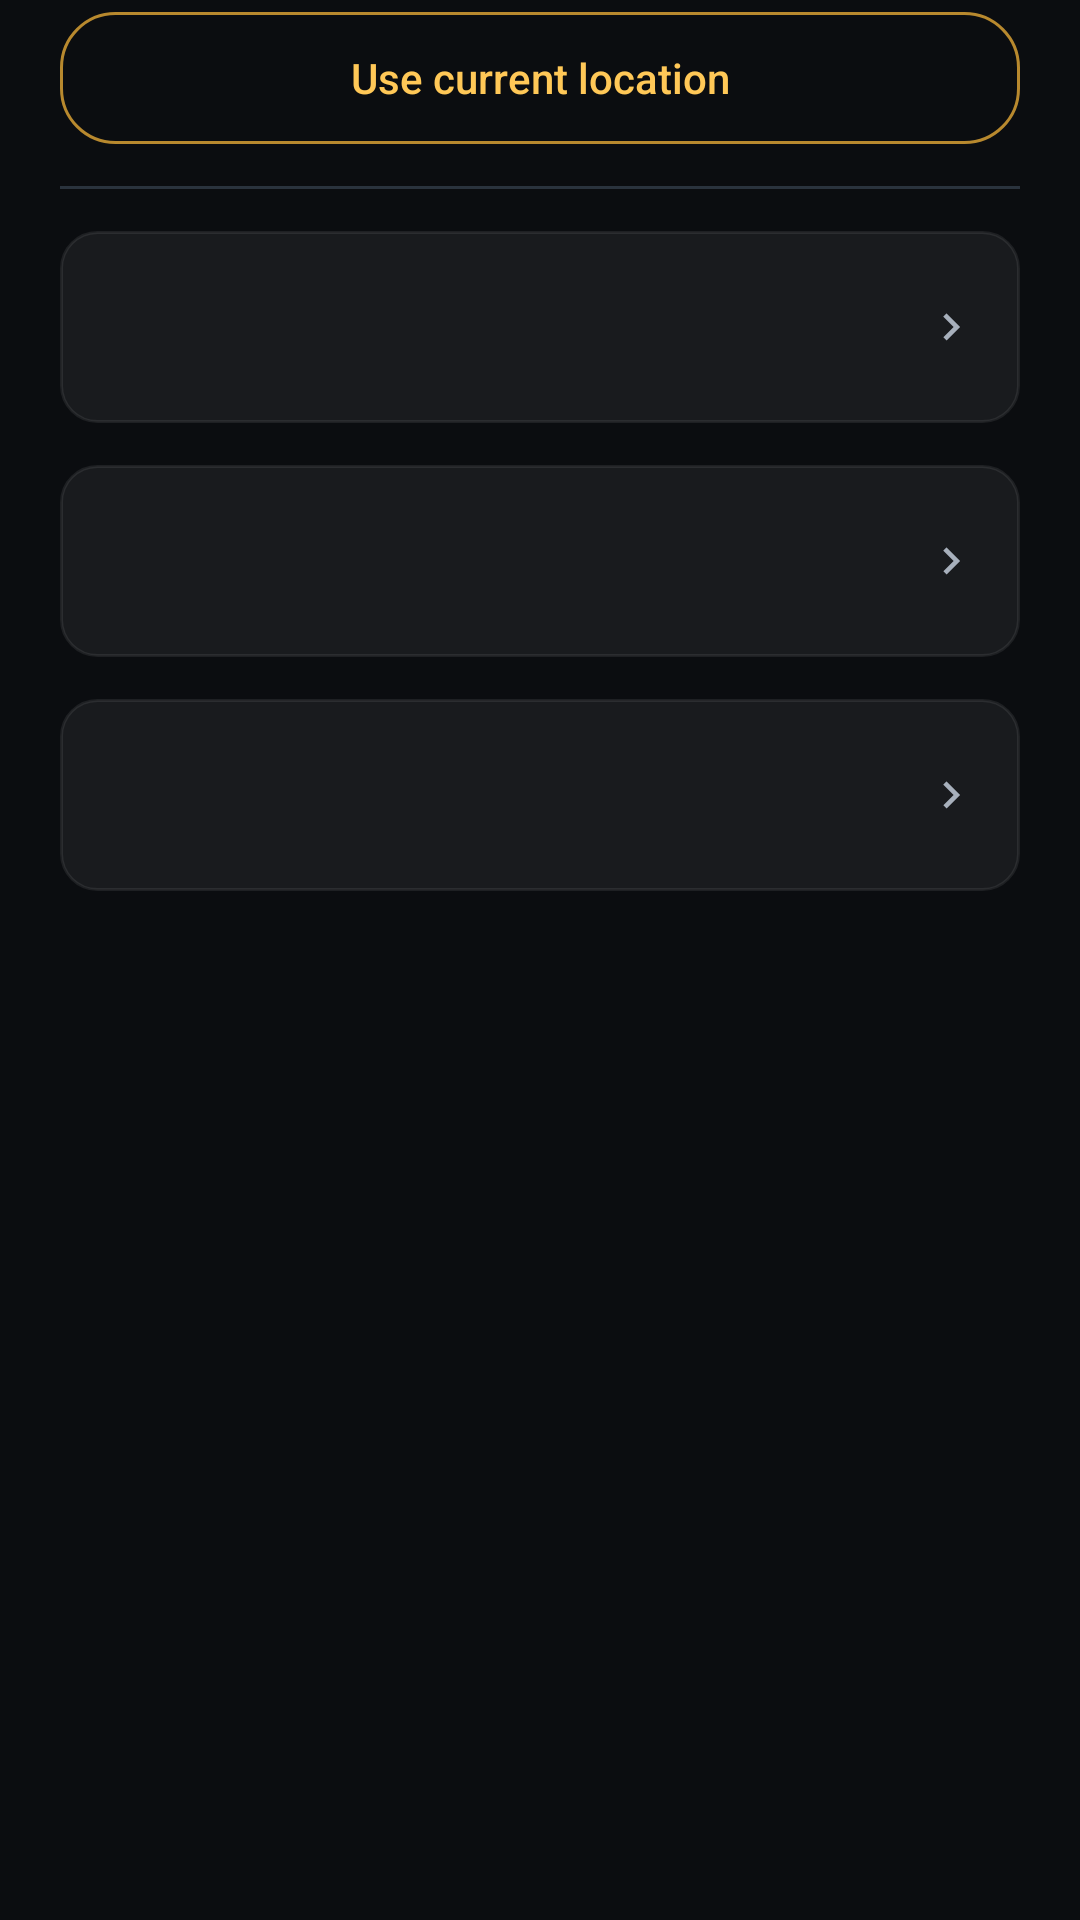

Icons on this 1080×1920 Android screen, each with the point to tap as [x,y]:
chevron right: [951,327], [951,561], [951,795]
